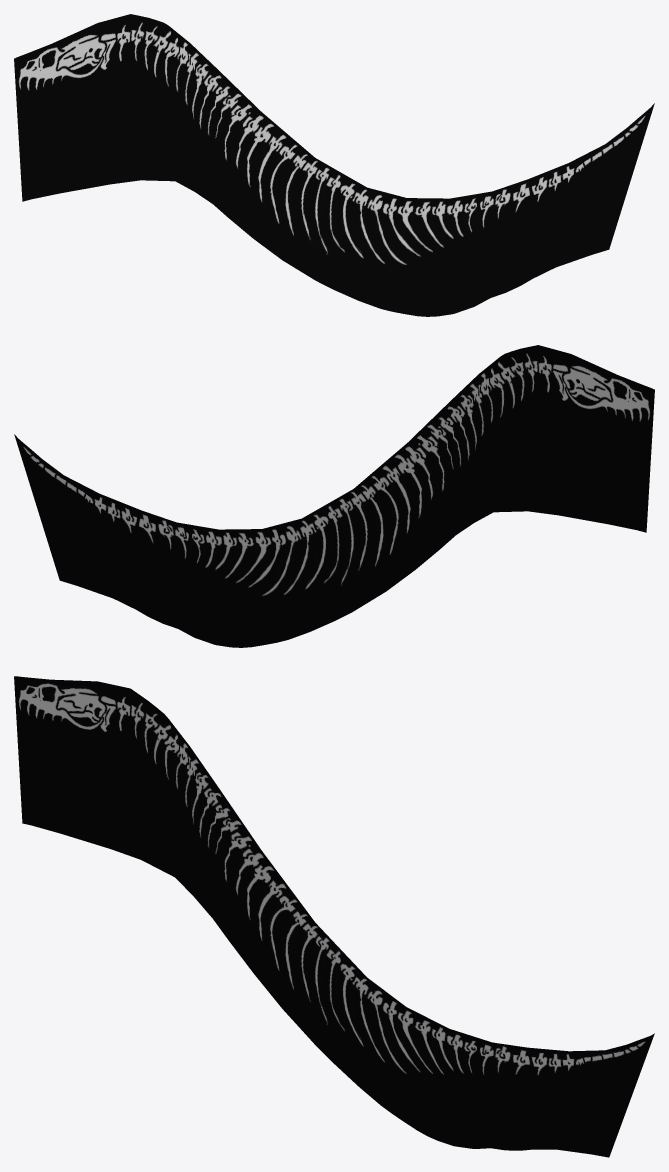
The model's file is BONE.fbx.
3 views of the same model, one above another, from view 1: azimuth 30°, elevation 25°; view 2: azimuth 150°, elevation 25°; view 3: azimuth 330°, elevation 25° (orthographic).
Visible parts, largest first — view 1: bone; view 2: bone; view 3: bone.
Boxes of the visible parts, bbox=[...] form: bone: bbox=[14, 14, 654, 316]; bone: bbox=[14, 345, 654, 647]; bone: bbox=[14, 676, 654, 1157].
Size of the model in its own units: 2639166 by 1490525 by 358.
